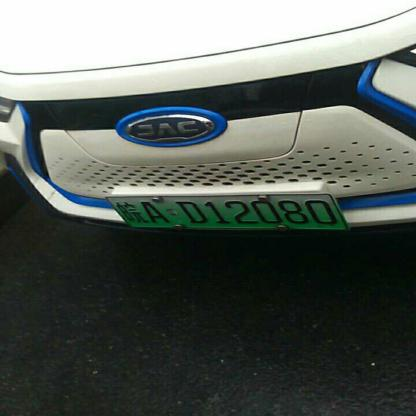lp: (106, 193, 348, 228)
